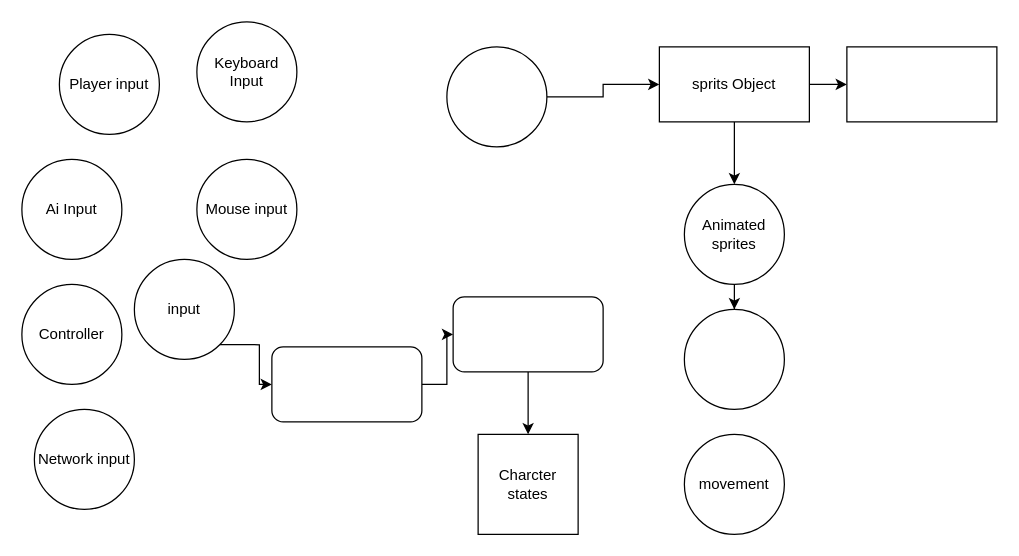
Some shapes in this 1019 by 556 pixel diagram are drawn without their labels. Here are the shapes that lost their labels. From the top down, the centre of each, then its label:
At [496,96]: "Object".
At [921,84]: "Image holder".
At [527,334]: "Charcter state manger".
At [733,358]: "Charcter".
At [346,384]: "Input event".
